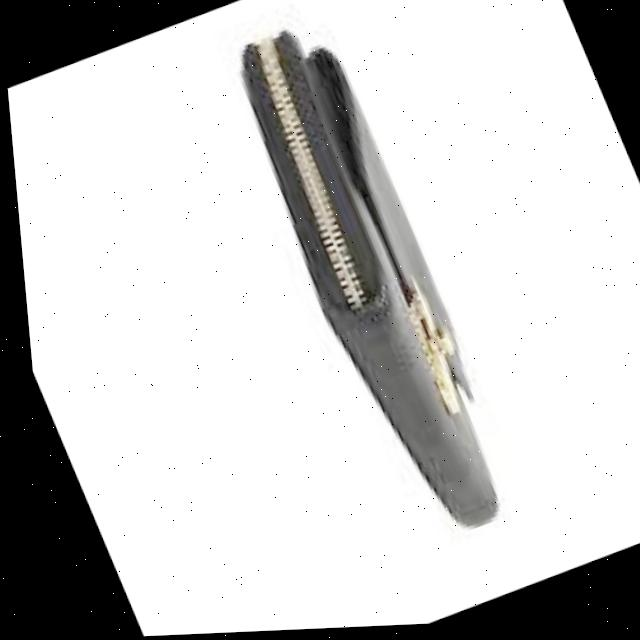cuzdan: (199, 0, 562, 583)
